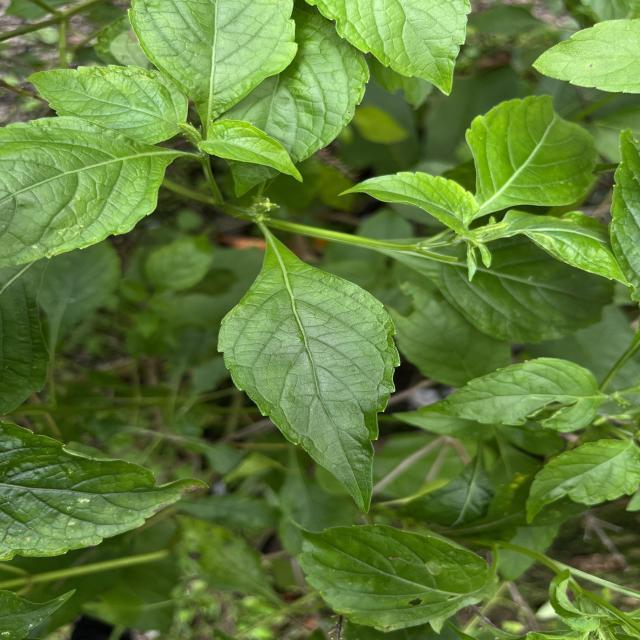Ocimum gratissimum: (214, 231, 405, 521), (0, 418, 213, 566), (0, 113, 182, 274), (290, 515, 500, 640), (125, 0, 301, 126), (460, 88, 606, 216), (25, 63, 194, 158), (333, 171, 488, 243)
